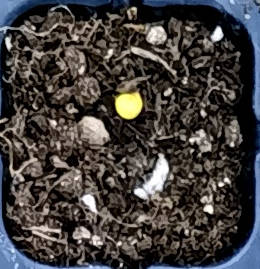pepper seed: (41, 29, 185, 149)
